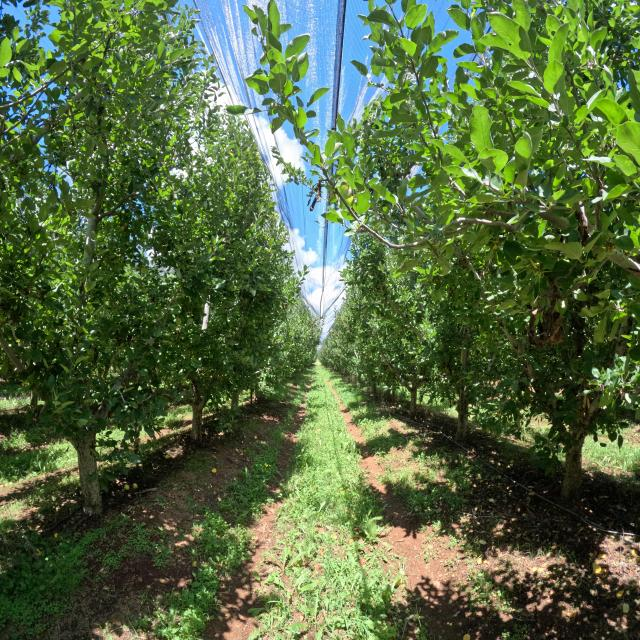-FireBlight-: (525, 310, 565, 348)
